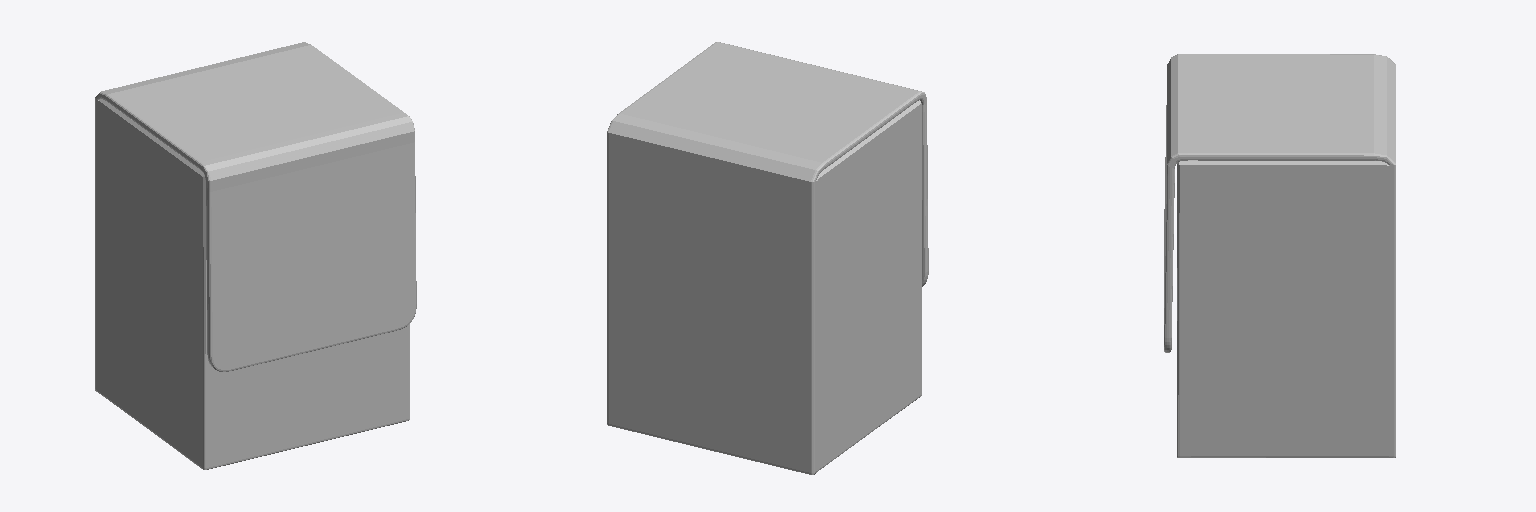
Rendered from model_deckboxCDR.obj.
3 renders of one model, left to right at view 1: azimuth 30°, elevation 25°; view 2: azimuth 150°, elevation 25°; view 3: azimuth 270°, elevation 25°, orthographic.
Visible parts, largest first — view 1: Box003; view 2: Box003; view 3: Box003.
Boxes of the visible parts, <box> form: Box003: <box>95,42,416,469</box>; Box003: <box>607,42,928,474</box>; Box003: <box>1164,54,1395,457</box>.
Bounding box in the file's own units: 2.49 × 3.5 × 2.43.